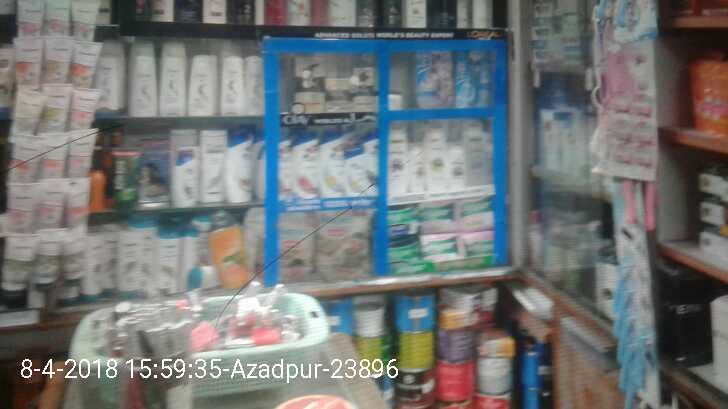venus: (600, 51, 654, 233), (612, 260, 647, 409), (454, 50, 494, 108), (415, 50, 453, 107)
